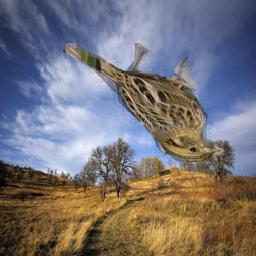Sparrow: (64, 44, 225, 163)
